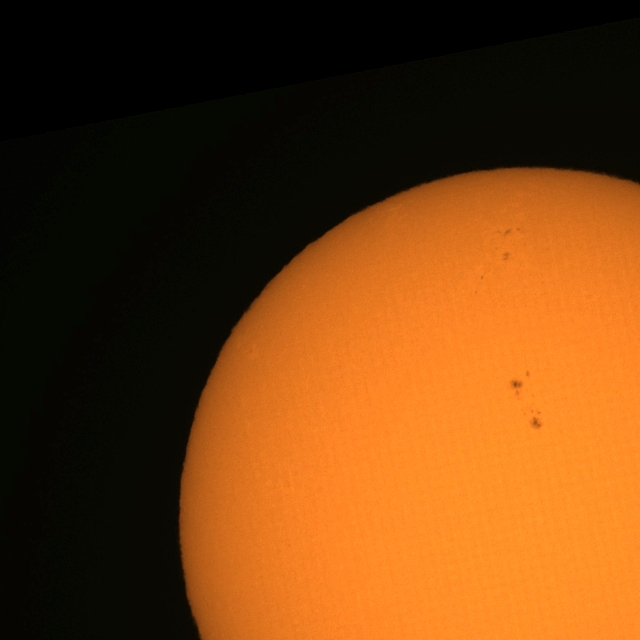sunspot: (509, 370, 532, 399), (522, 408, 544, 431), (509, 378, 524, 398), (498, 226, 522, 237), (500, 250, 510, 262), (524, 369, 530, 377), (480, 275, 485, 281)
